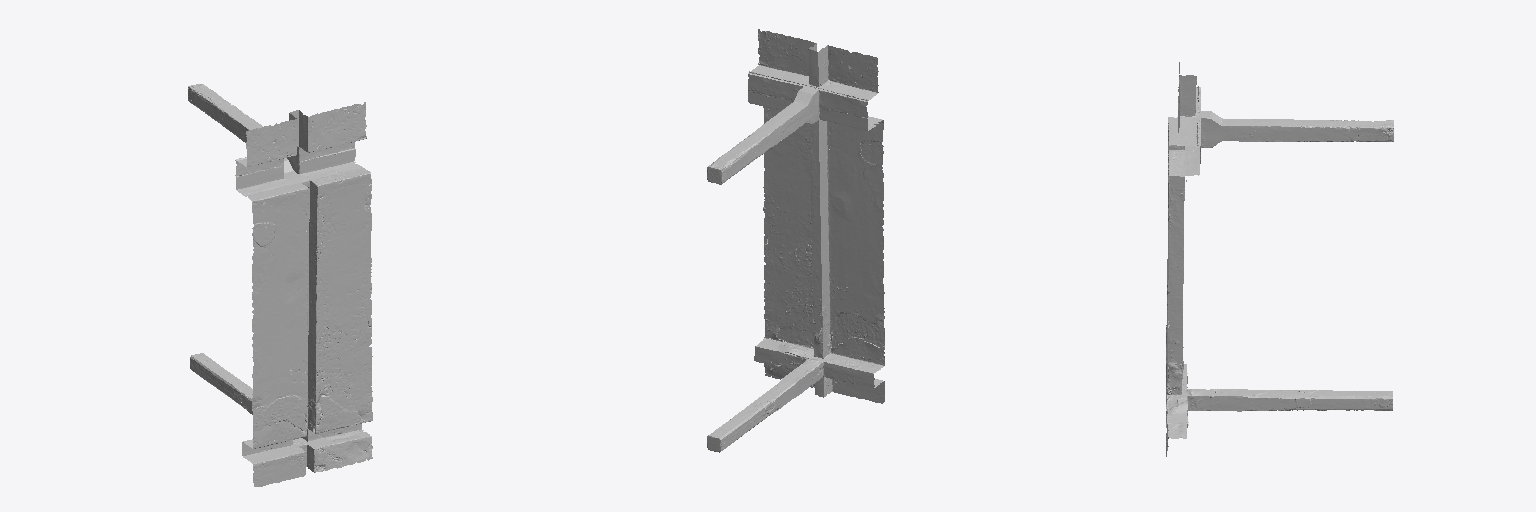
Rendered from stlpy-low.obj.
3 renders of one model, left to right at view 1: azimuth 30°, elevation 25°; view 2: azimuth 150°, elevation 25°; view 3: azimuth 270°, elevation 25°, orthographic.
Visible parts, largest first — view 1: default; view 2: default; view 3: default.
Part boxes in pixels (left/top/right/bottom): default: left=188, top=84, right=372, bottom=486; default: left=707, top=29, right=884, bottom=452; default: left=1166, top=62, right=1393, bottom=456.
Size of the model in its own units: 2.05 by 5.74 by 3.36.